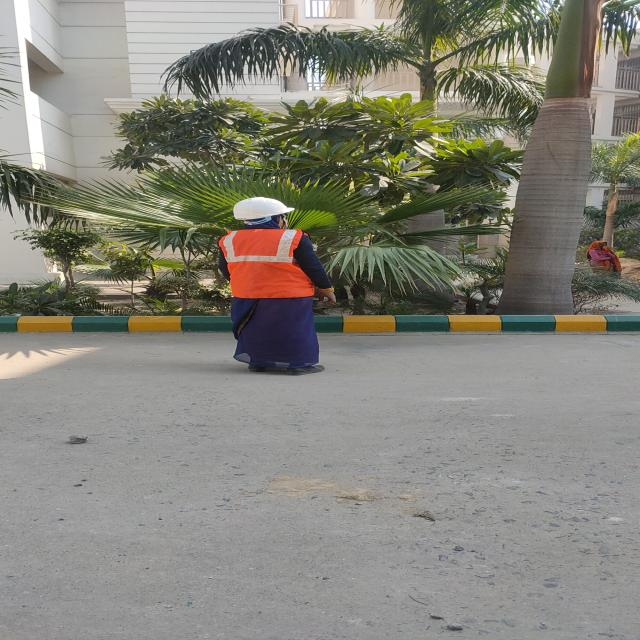safe: (217, 198, 334, 372)
unsafe: (586, 241, 621, 269)
